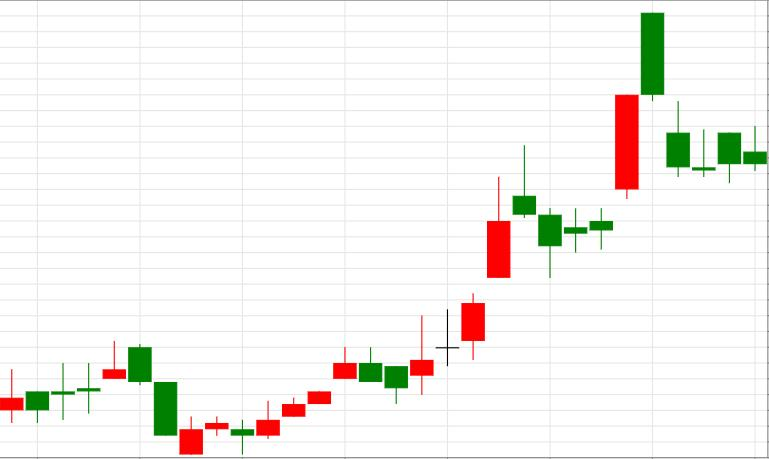shooting_star_fall: (410, 146, 536, 395)
